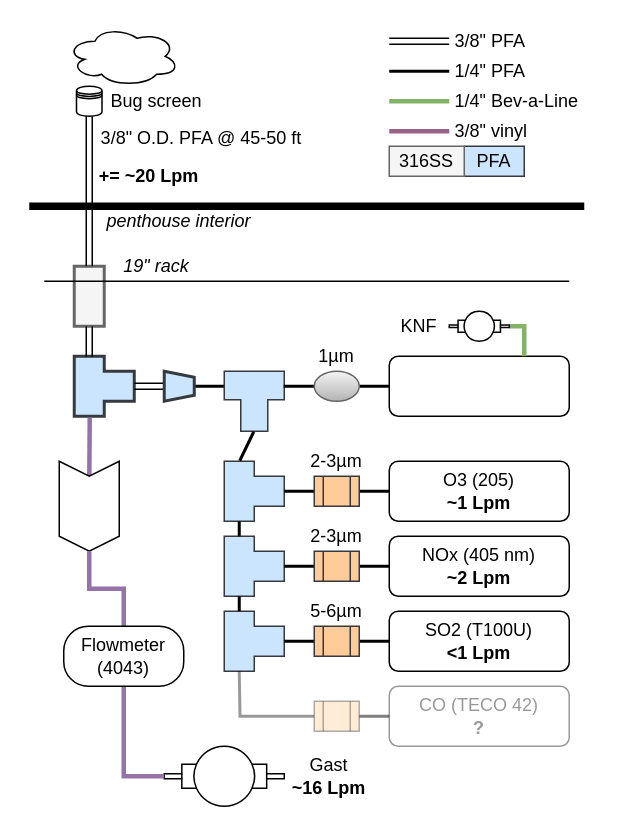
Image size: 626x833. Some labels were removed from this diagram. Here are the shapes that lost their labels. From the top down, the centre of each, then its label:
At (x=122, y=55): "sample".
At (x=478, y=385): "CO2/H2O (LI840A) <1 Lpm".
At (x=88, y=505): "Mnfctr filter".
